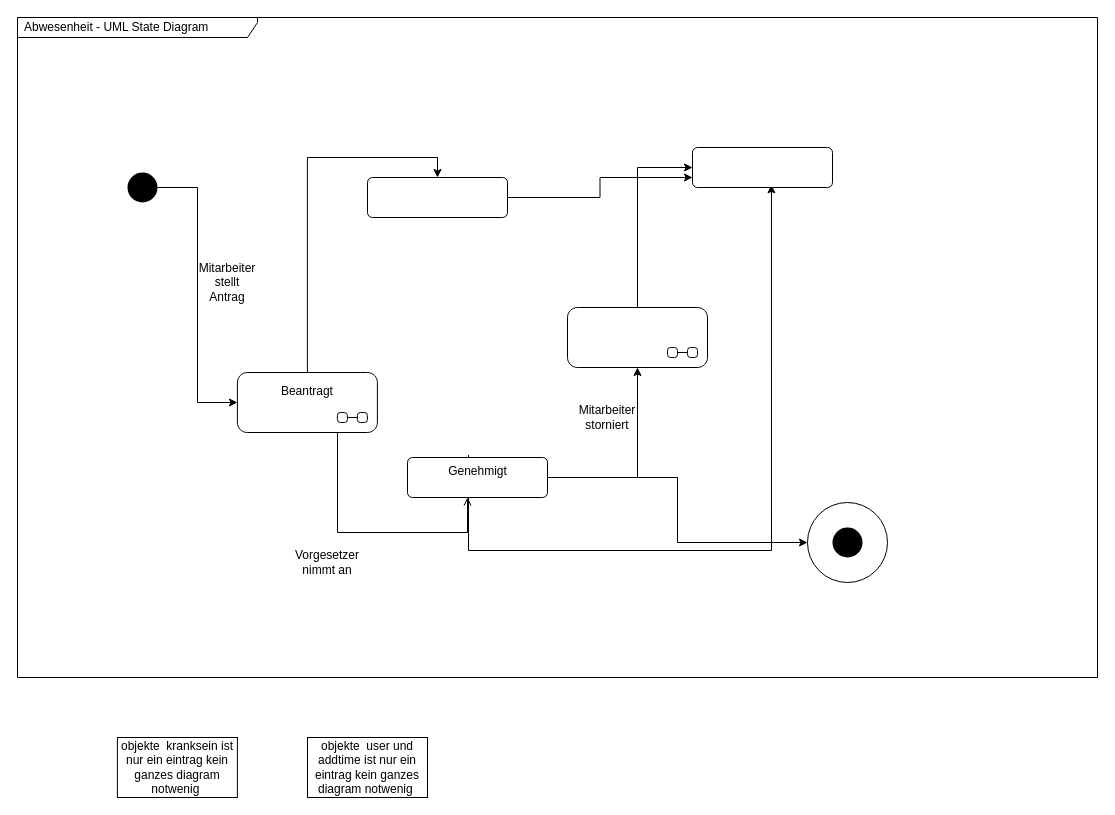
The diagram is 1115 pixels wide and 815 high, and some of its shapes have lost their labels. The shapes that lost their labels are listed below. From the top down, each one's centre as x and y in pixels, then its label:
point 762,167: gelöscht
point 437,197: Abgelehnt
point 637,337: storniert
